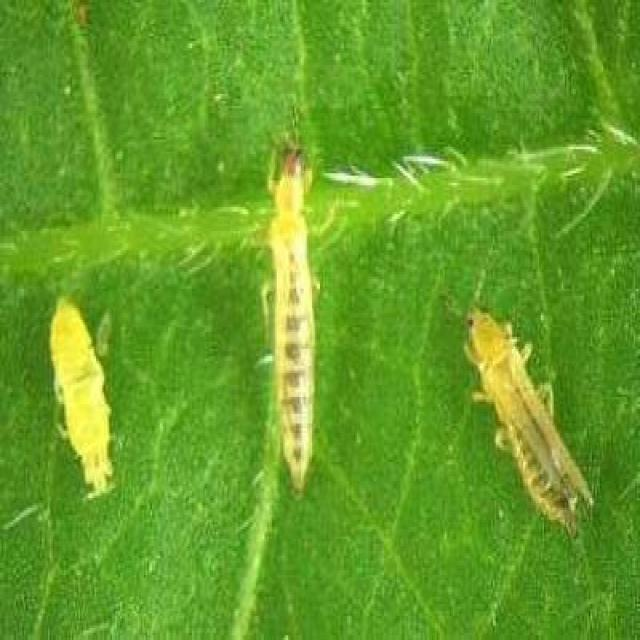Thrip-Adult-: (446, 275, 597, 539), (244, 131, 344, 506)
Thrip-Larva-: (29, 277, 138, 513)
